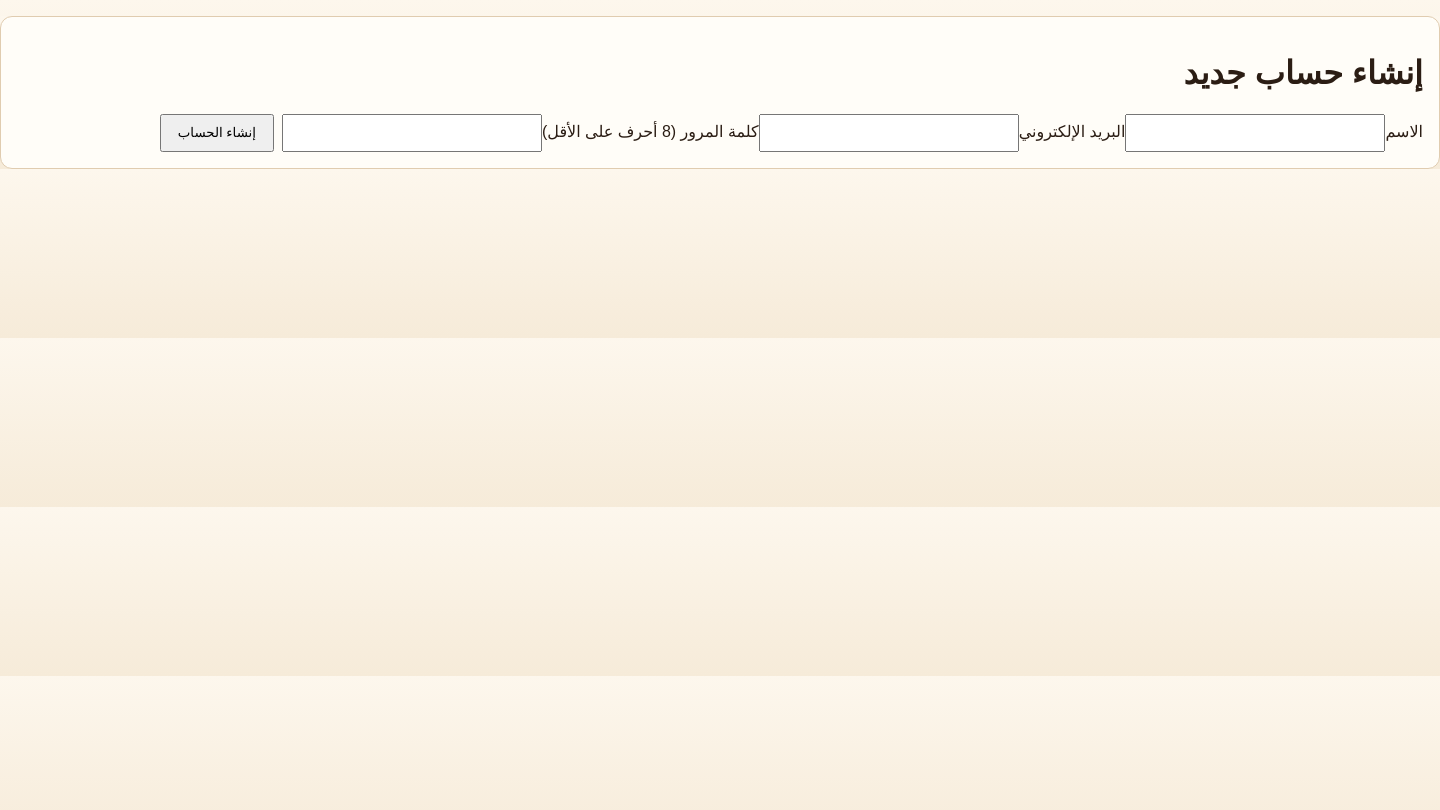
صفحة إنشاء حساب جديد › عند فشل الخادم (بريد مستخدم مثلاً): يعرض رسالة الخادم ولا يُخزَّن أي توكن ولا يُوجَّه المستخدم
This screenshot has width=1440, height=810.
In the field labelled "البريد الإلكتروني": (889, 133) [759,114,1019,152], type "taken@rawaya.test"
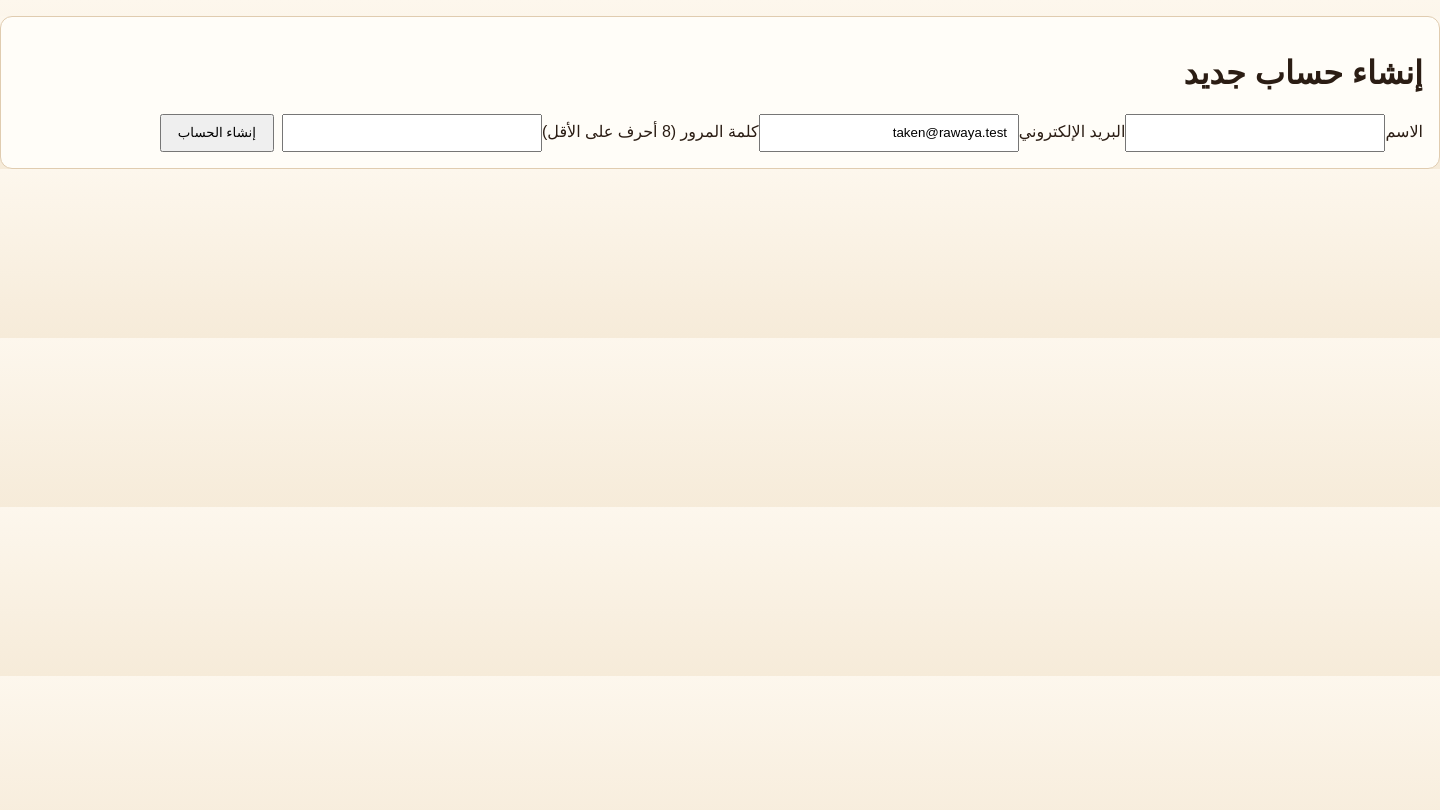
In the password field labelled "كلمة المرور (8 أحرف على الأقل)": (412, 133) [282,114,542,152], type "StrongPass123"
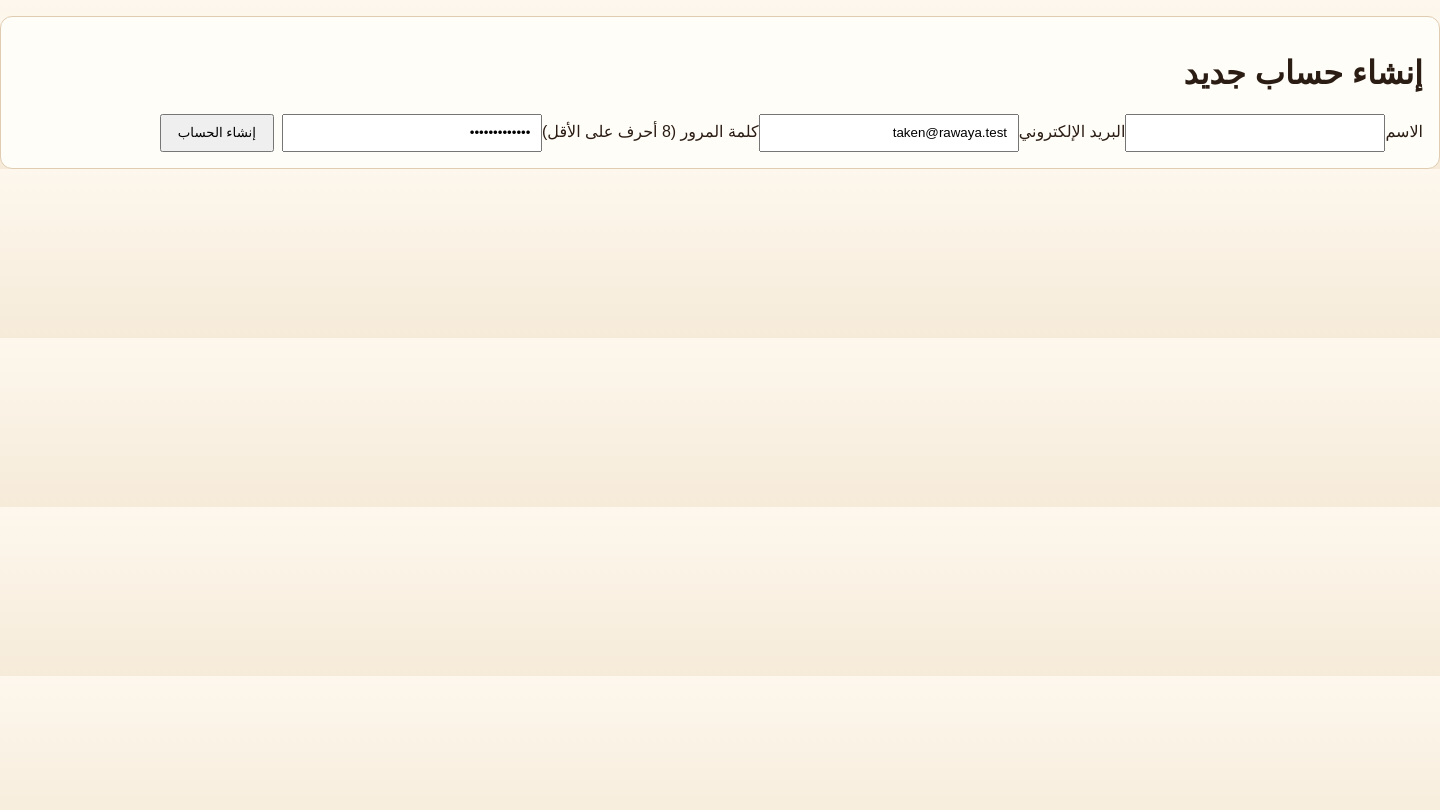
Click the button "إنشاء الحساب": click(217, 133) [160,114,274,152]
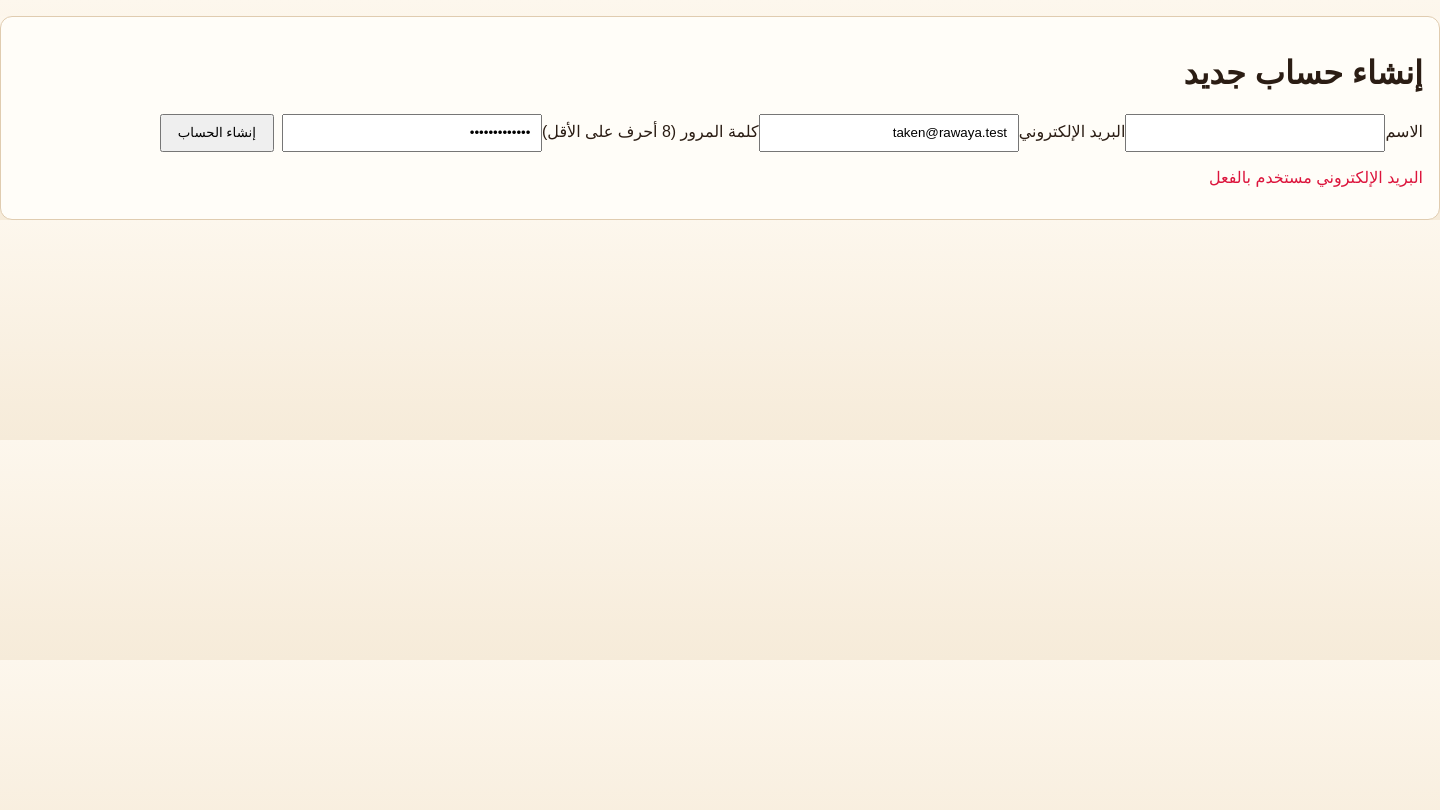
Expected: the text "البريد الإلكتروني مستخدم بالفعل" is shown, [1209,169,1423,186]
